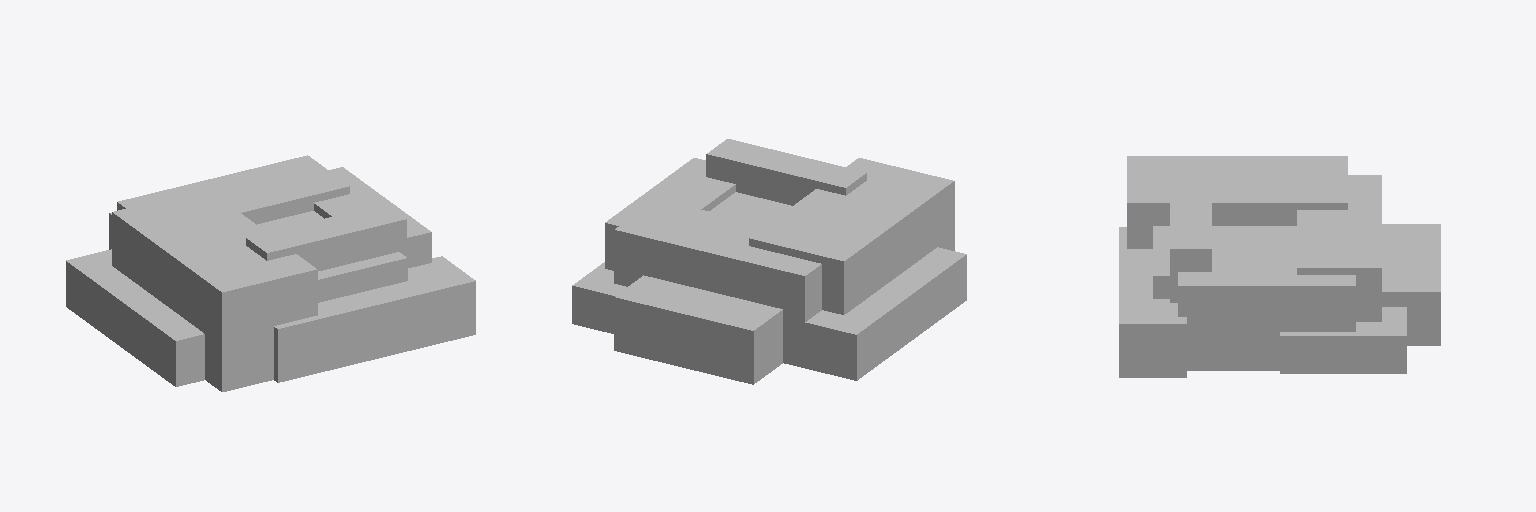
Rendered from Stone-3.obj.
3 views of the same model, side by side, from view 1: azimuth 30°, elevation 25°; view 2: azimuth 150°, elevation 25°; view 3: azimuth 270°, elevation 25° (orthographic).
Parts seen in each view (by area): view 1: object 1; view 2: object 1; view 3: object 1.
Part boxes in pixels (x1,y1,x2,y2): object 1: (66, 155, 475, 391); object 1: (572, 139, 966, 384); object 1: (1119, 156, 1440, 377).
Size of the model in its own units: 3.8 by 1.4 by 3.8.